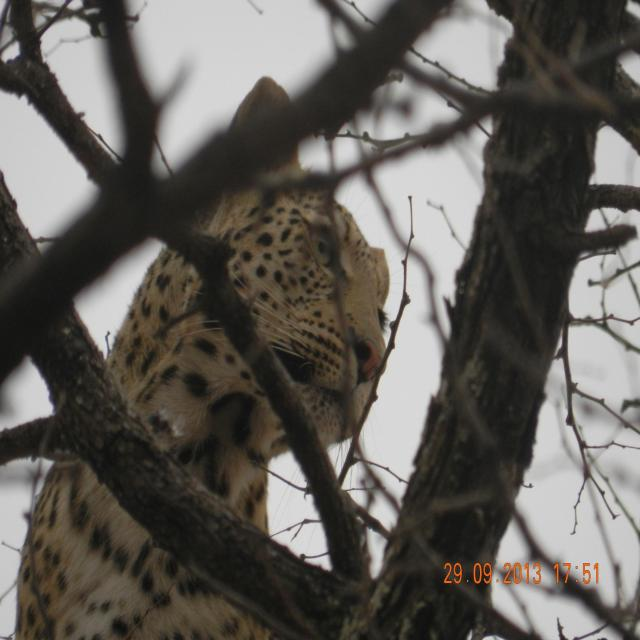Leopard: (48, 172, 403, 632)
